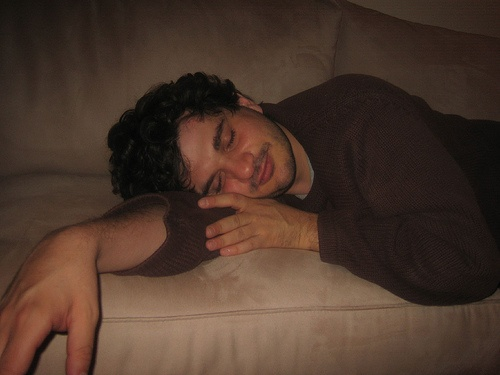head: (107, 74, 299, 201)
person: (1, 40, 500, 369)
